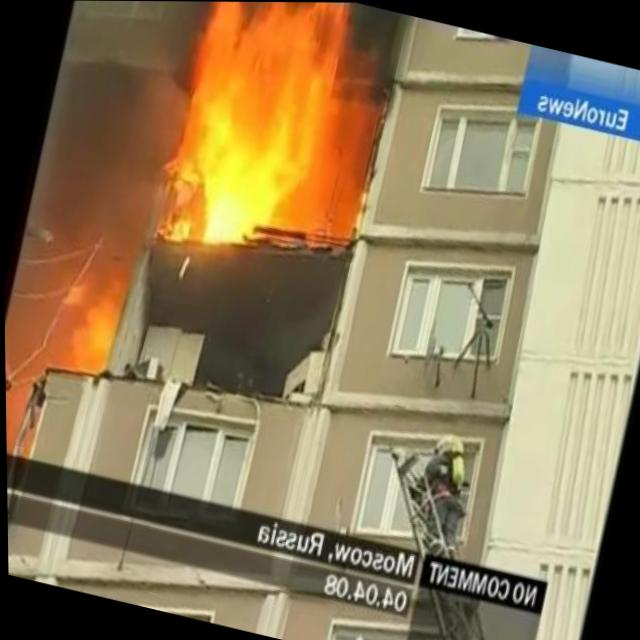fire: (143, 1, 387, 285), (64, 262, 130, 375)
